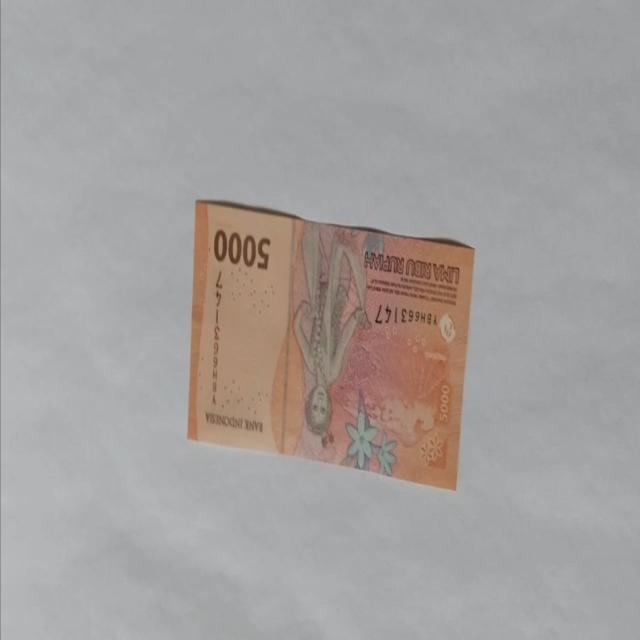lima ribu rupiah: (187, 198, 476, 492)
